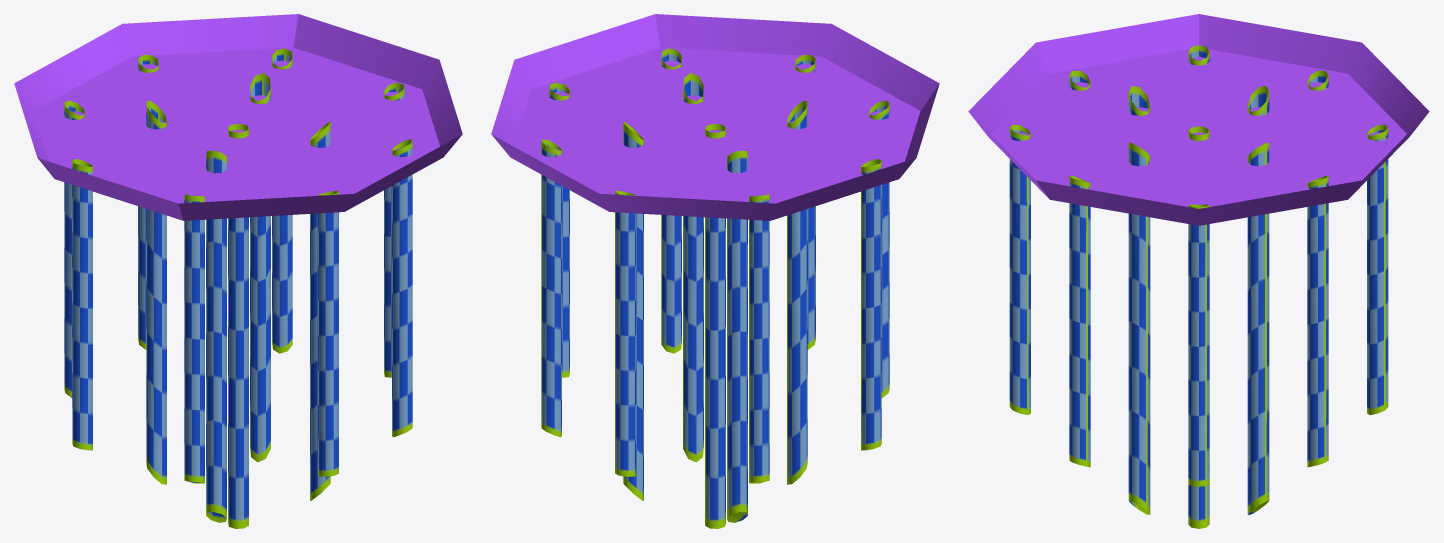
The model's file is LightCeiling14_2.FBX.
The picture shows the model from 3 angles, left to right: view 1: azimuth 30°, elevation 25°; view 2: azimuth 150°, elevation 25°; view 3: azimuth 270°, elevation 25°; orthographic projection.
Visible parts, largest first — view 1: LightCeiling14_2; view 2: LightCeiling14_2; view 3: LightCeiling14_2.
Part boxes in pixels (x1=…): LightCeiling14_2: x1=14, y1=14, x2=462, y2=528; LightCeiling14_2: x1=491, y1=14, x2=939, y2=528; LightCeiling14_2: x1=968, y1=14, x2=1429, y2=528.
Size of the model in its own units: 77.47 by 76.83 by 77.47.
